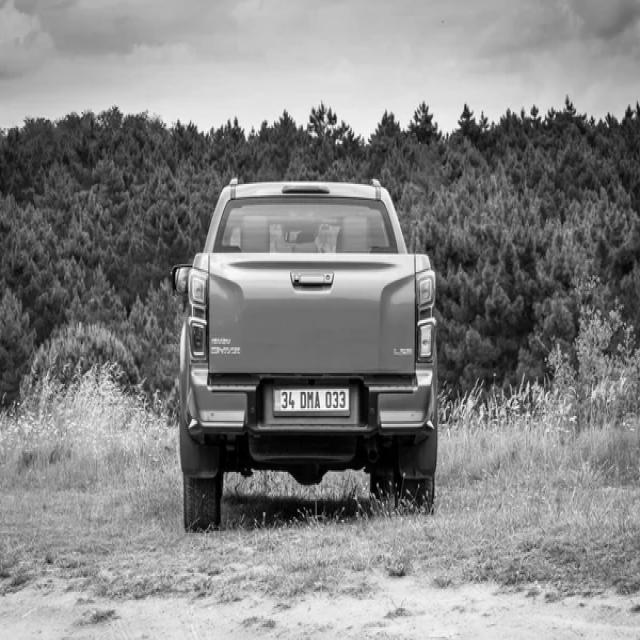Car: (173, 179, 438, 533)
